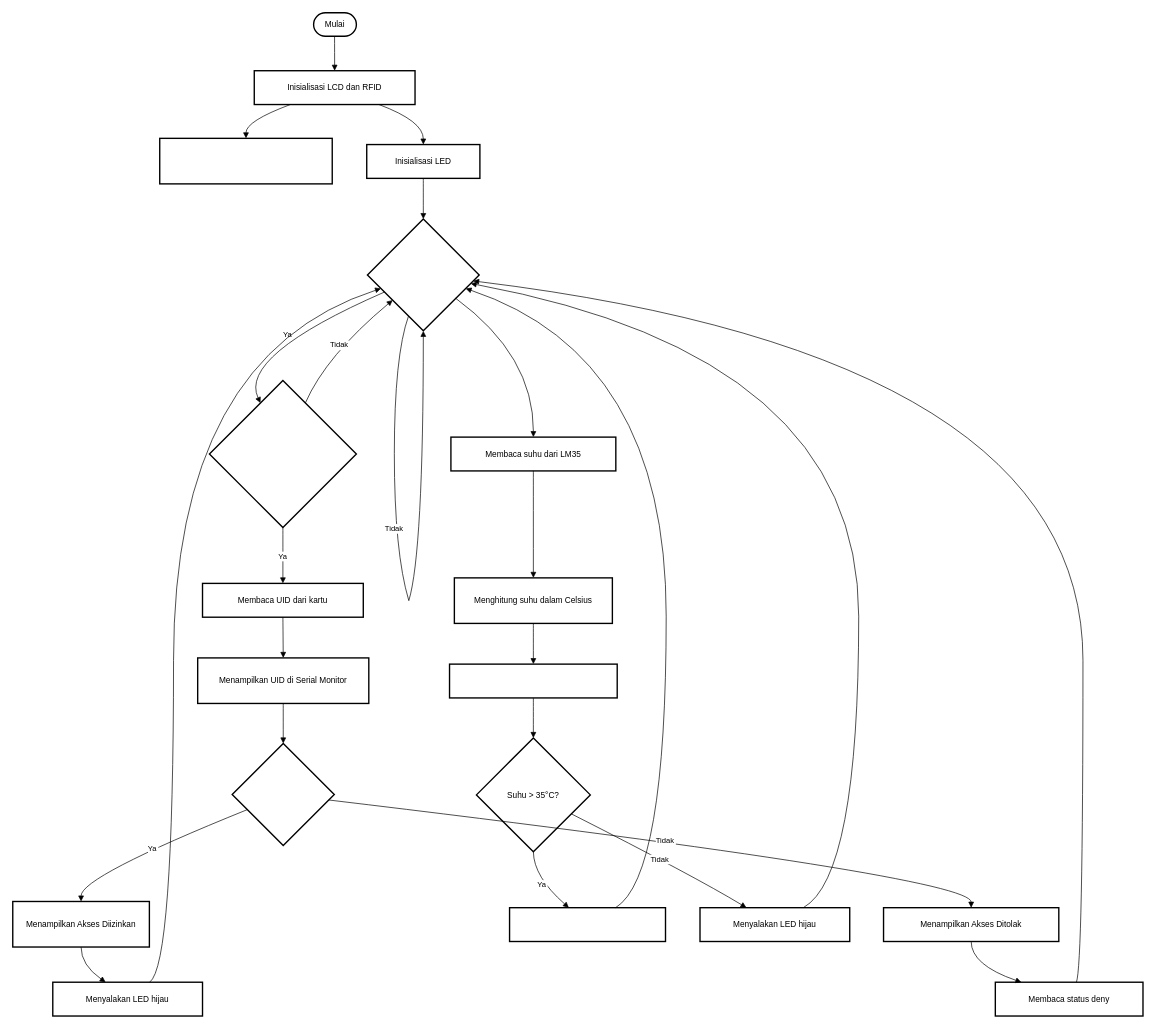
The diagram is 1155 pixels wide and 1028 high, and some of its shapes have lost their labels. The centre of each missing label's shape, as x and y in pixels:
"Ada kartu baru?" belongs at point 423,274.
"Dapat membaca kartu?" belongs at point 282,453.
"Menampilkan suhu di LCD" belongs at point 533,680.
"Menyalakan LED merah" belongs at point 587,924.
"Pesan: Tempatkan kartu di RFID" belongs at point 246,160.
"UID diizinkan?" belongs at point 283,794.
